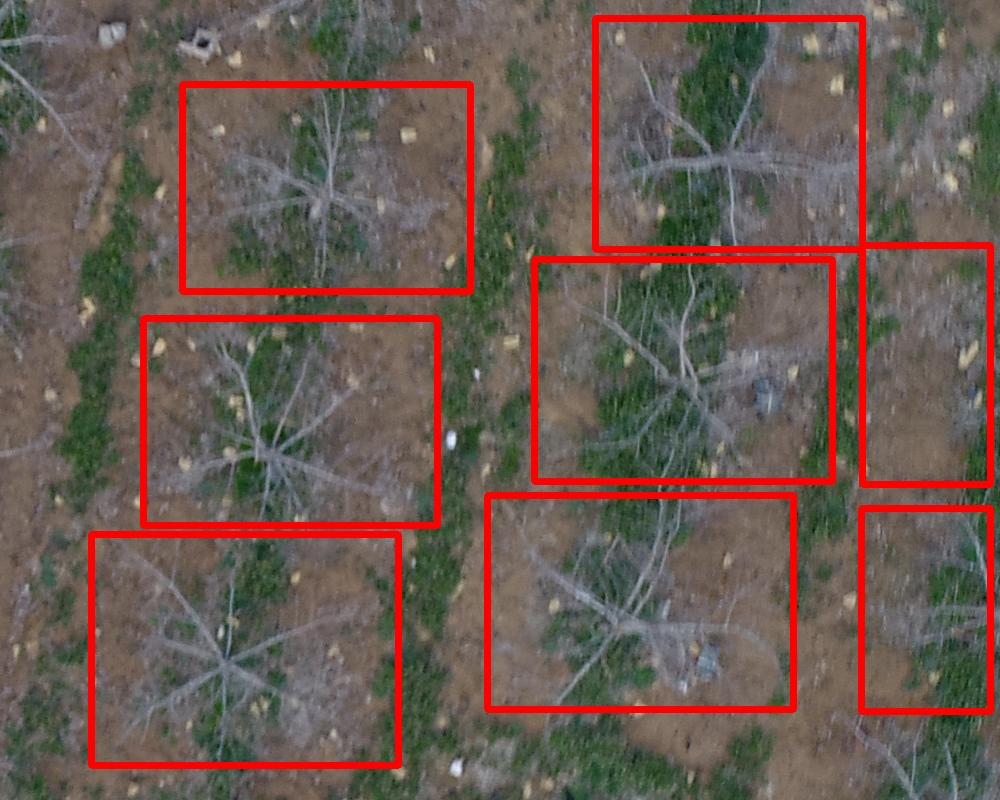apple: (91, 534, 398, 765), (534, 259, 832, 481), (487, 495, 793, 709), (595, 18, 862, 249), (143, 318, 437, 525), (182, 84, 470, 291), (862, 245, 990, 484), (861, 508, 990, 711)
